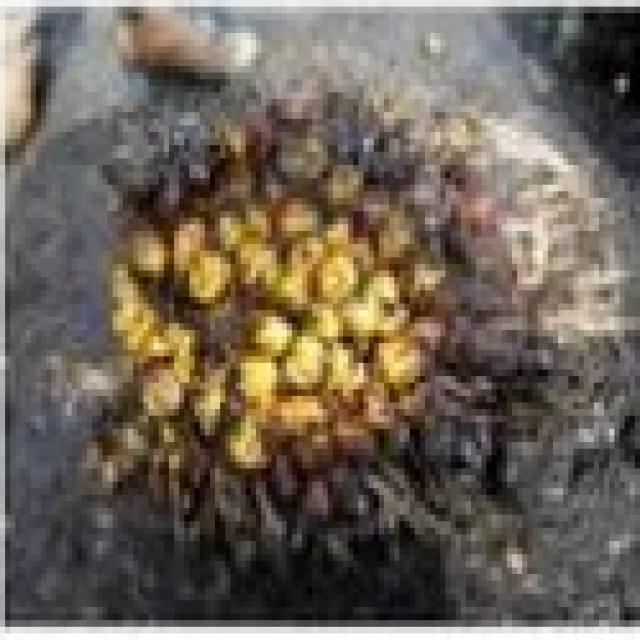FFB: (109, 102, 556, 585)
